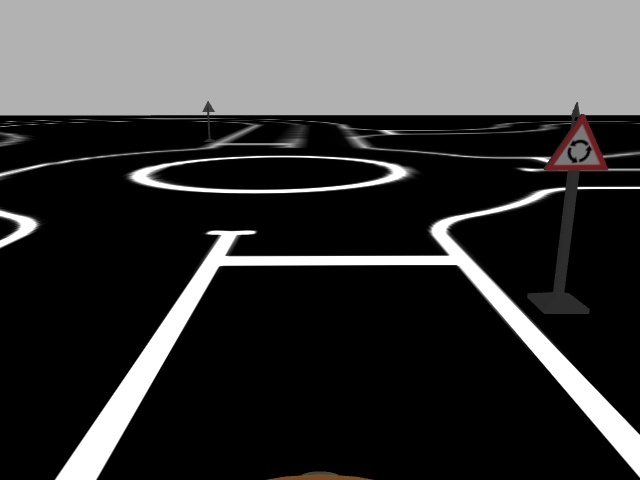roundabout: (542, 112, 608, 172)
